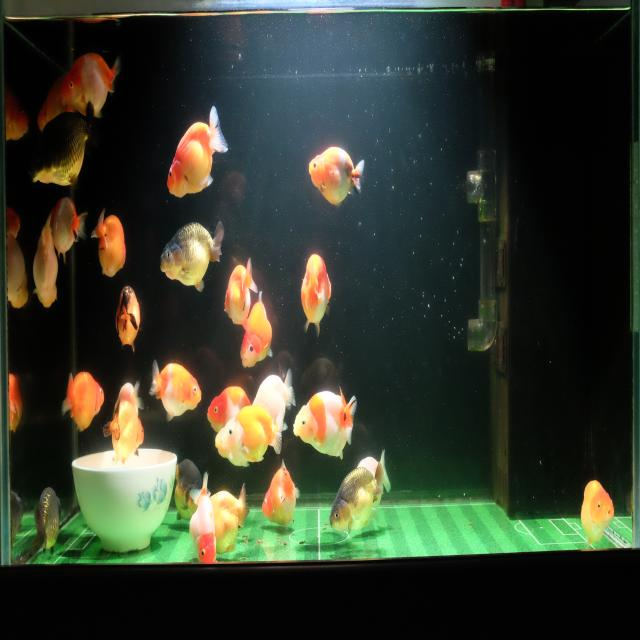Tilapia: (26, 102, 100, 192), (166, 107, 227, 201), (158, 220, 225, 294), (292, 388, 359, 460), (56, 50, 122, 123), (328, 462, 385, 537), (221, 403, 285, 467), (148, 358, 202, 424), (308, 146, 364, 209), (208, 480, 252, 556), (60, 368, 107, 437), (250, 366, 296, 436), (103, 397, 147, 470), (300, 250, 333, 341), (258, 459, 300, 528), (580, 476, 616, 556), (238, 290, 274, 370), (32, 214, 62, 310), (90, 206, 128, 280), (188, 472, 218, 564), (48, 195, 88, 262), (223, 256, 258, 328), (35, 483, 65, 561), (206, 384, 252, 433), (355, 447, 391, 509), (174, 456, 205, 527), (114, 281, 142, 358), (214, 418, 250, 472), (4, 237, 27, 315), (111, 373, 143, 422), (8, 372, 22, 438)
